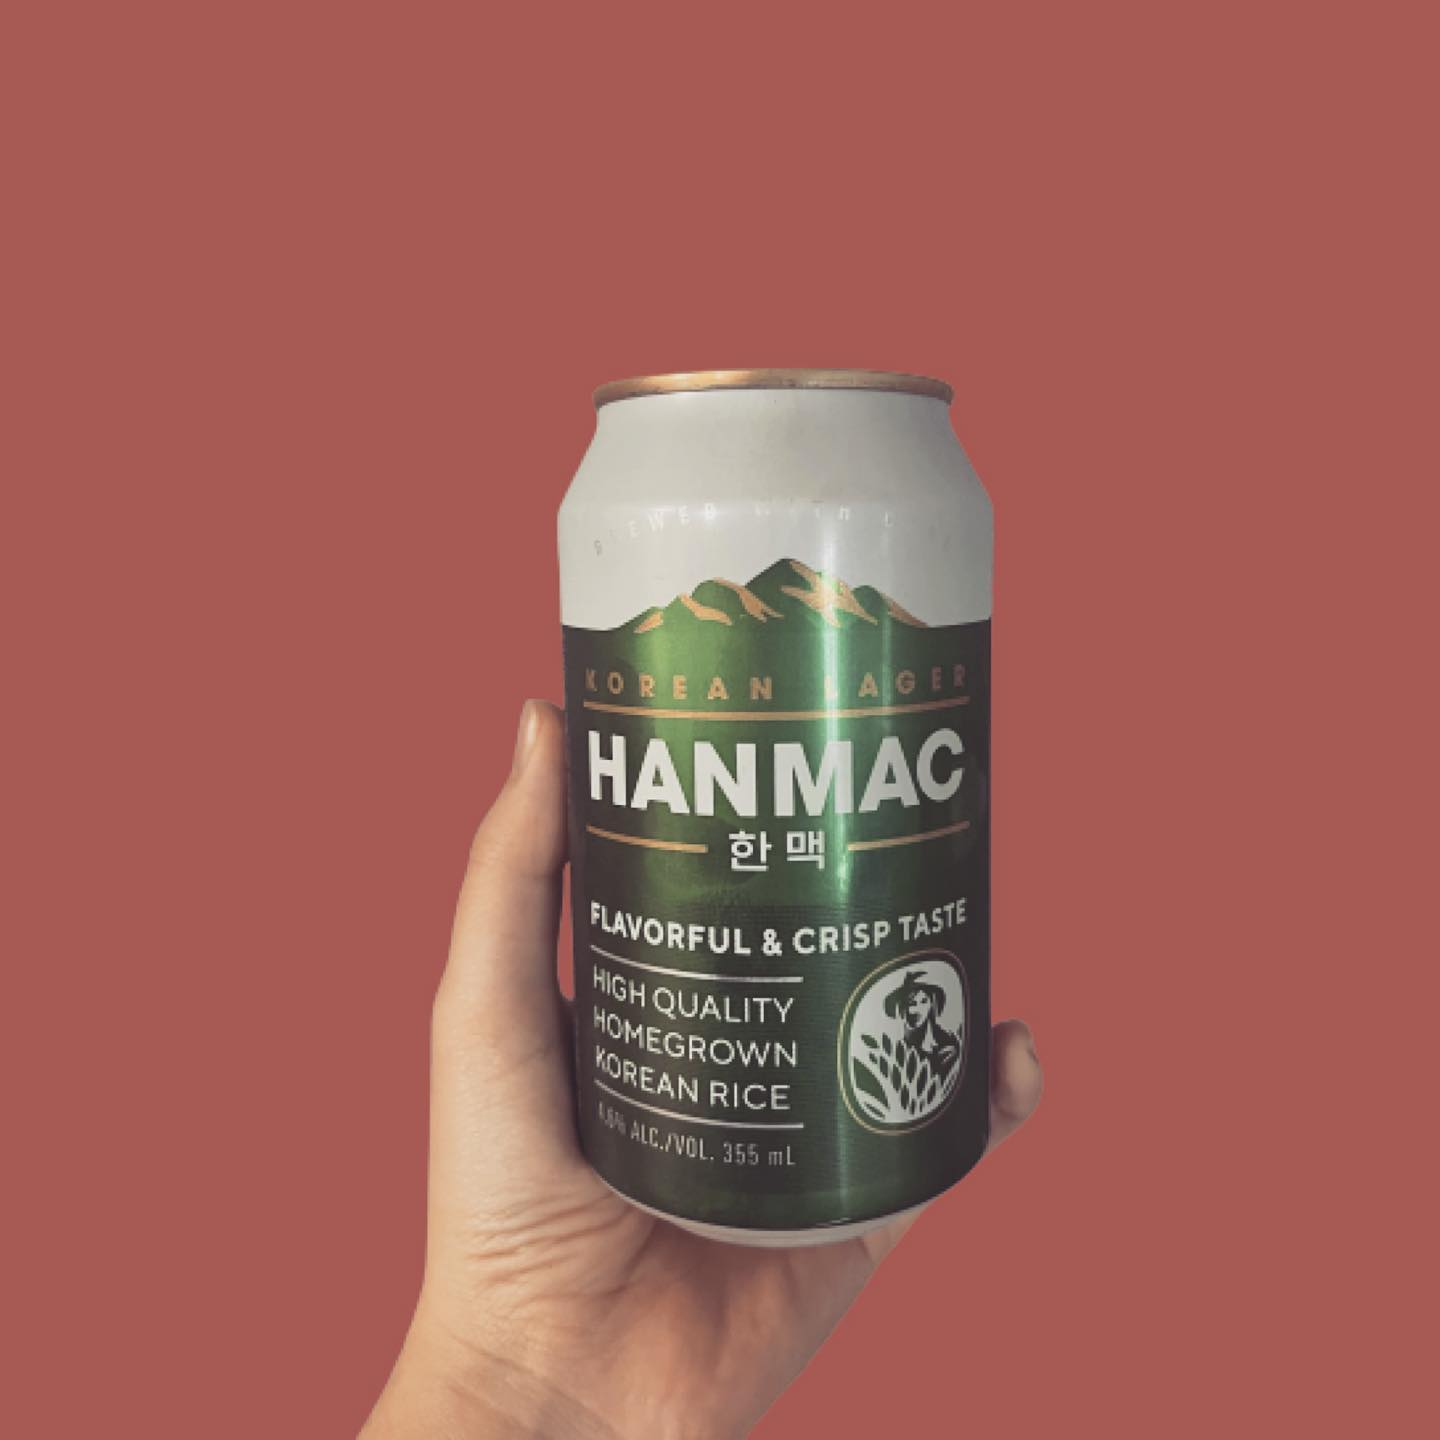alcohol: (549, 356, 1004, 1255)
